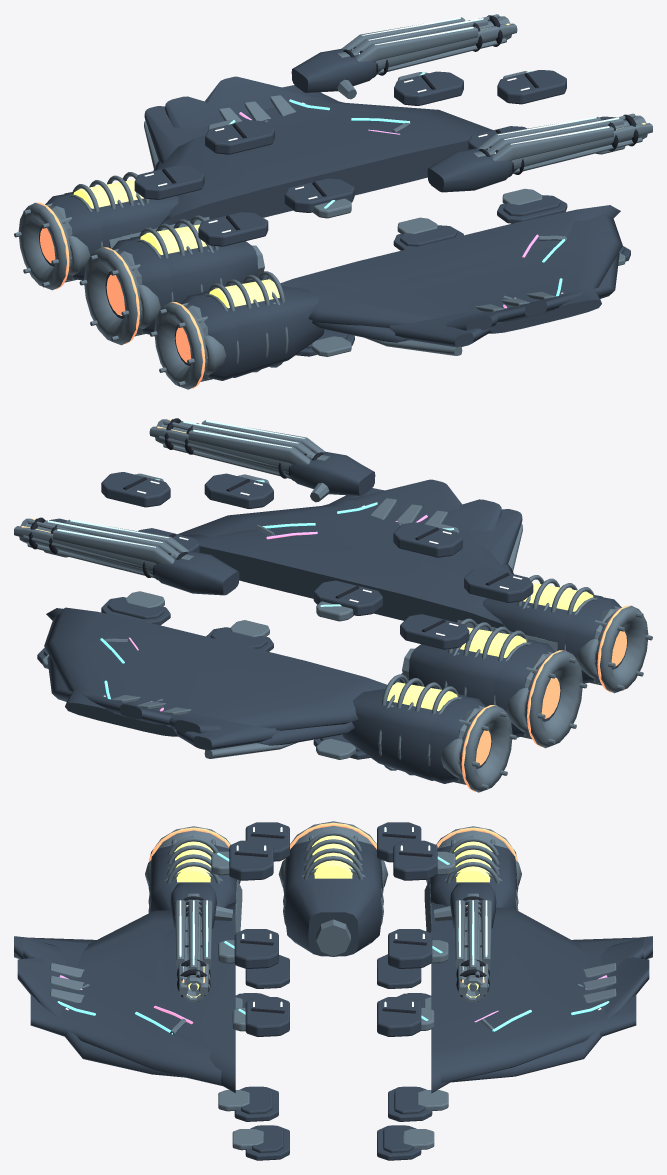
File: bastion.glb
The picture shows the model from 3 angles, top to bottom: view 1: azimuth 30°, elevation 25°; view 2: azimuth 150°, elevation 25°; view 3: azimuth 270°, elevation 25°; orthographic projection. The views are drawn at different scales.
Parts seen in each view (by area): view 1: w_vane Fitting gunmetal, w_razor Fitting gunmetal, p_heavy Fitting gunmetal, e_twin Fitting gunmetal, e_nova Brushed fitting edges, m_array Brushed fitting edges, w_prism Fitting gunmetal, e_nova Fitting gunmetal, m_heavy Fitting gunmetal, w_phantom Fitting gunmetal, e_fusion Brushed fitting edges, e_fusion e_fusion emitter (+13 smaller); view 2: w_vane Fitting gunmetal, w_razor Fitting gunmetal, p_heavy Fitting gunmetal, e_twin Fitting gunmetal, e_nova Brushed fitting edges, w_prism Fitting gunmetal, m_array Brushed fitting edges, e_nova Fitting gunmetal, m_heavy Fitting gunmetal, w_phantom Fitting gunmetal, e_fusion Brushed fitting edges, e_fusion e_fusion emitter (+14 smaller); view 3: w_vane Fitting gunmetal, p_heavy Fitting gunmetal, e_twin Fitting gunmetal, w_razor Fitting gunmetal, w_prism Fitting gunmetal, p_light Brushed fitting edges, e_fusion Brushed fitting edges, m_array Brushed fitting edges, e_fusion e_fusion emitter, p_aegis Fitting gunmetal, e_twin Brushed fitting edges, e_nova Brushed fitting edges (+14 smaller).
Boxes of the visible parts, x1,y1,x2,y2 form: w_vane Fitting gunmetal: (158,85,622,333); w_razor Fitting gunmetal: (160,96,620,330); p_heavy Fitting gunmetal: (134,70,630,356); e_twin Fitting gunmetal: (64,192,324,377); e_nova Brushed fitting edges: (14,202,212,389); m_array Brushed fitting edges: (341,17,623,161); w_prism Fitting gunmetal: (153,76,619,342); e_nova Fitting gunmetal: (39,194,238,380); m_heavy Fitting gunmetal: (291,48,517,192); w_phantom Fitting gunmetal: (144,106,497,347); e_fusion Brushed fitting edges: (48,172,301,380); e_fusion e_fusion emitter: (73,180,279,308); w_vane Fitting gunmetal: (44,488,507,736); w_razor Fitting gunmetal: (46,499,506,733); p_heavy Fitting gunmetal: (37,472,533,759); e_twin Fitting gunmetal: (342,595,602,780); e_nova Brushed fitting edges: (454,605,652,792); w_prism Fitting gunmetal: (47,479,513,745); m_array Brushed fitting edges: (43,420,325,564); e_nova Fitting gunmetal: (428,597,627,783); m_heavy Fitting gunmetal: (149,451,375,595); w_phantom Fitting gunmetal: (169,509,522,750); e_fusion Brushed fitting edges: (365,575,618,783); e_fusion e_fusion emitter: (387,582,593,711); w_vane Fitting gunmetal: (30,903,636,1085); p_heavy Fitting gunmetal: (229,822,437,1160); e_twin Fitting gunmetal: (149,847,517,956); w_razor Fitting gunmetal: (23,902,643,1093); w_prism Fitting gunmetal: (17,957,649,1082); p_light Brushed fitting edges: (211,851,455,1150); e_fusion Brushed fitting edges: (163,831,503,944); m_array Brushed fitting edges: (175,900,491,969); e_fusion e_fusion emitter: (174,835,492,882); p_aegis Fitting gunmetal: (236,993,430,1152); e_twin Brushed fitting edges: (145,859,521,956); e_nova Brushed fitting edges: (150,821,516,895).
Bounding box in the file's own units: 50.24 × 18.42 × 54.88.
